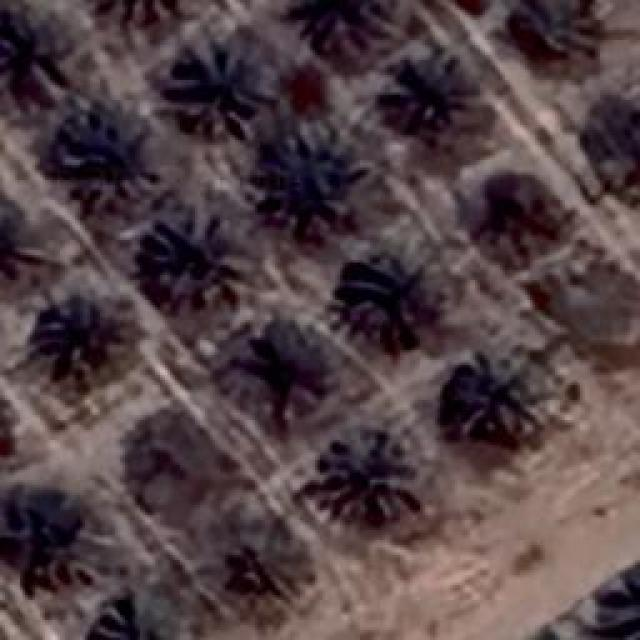PalmTree: (53, 91, 619, 599), (448, 344, 558, 438), (36, 290, 129, 400), (264, 122, 356, 228), (2, 482, 86, 598), (381, 42, 489, 126), (312, 430, 412, 520), (179, 30, 269, 128), (360, 252, 438, 360), (60, 95, 148, 190), (470, 170, 563, 252), (216, 520, 296, 605), (234, 320, 316, 400), (297, 0, 405, 55), (521, 0, 608, 62), (144, 228, 218, 294), (603, 100, 640, 199), (0, 196, 35, 290), (105, 602, 183, 640), (86, 0, 190, 22), (0, 374, 10, 465)
